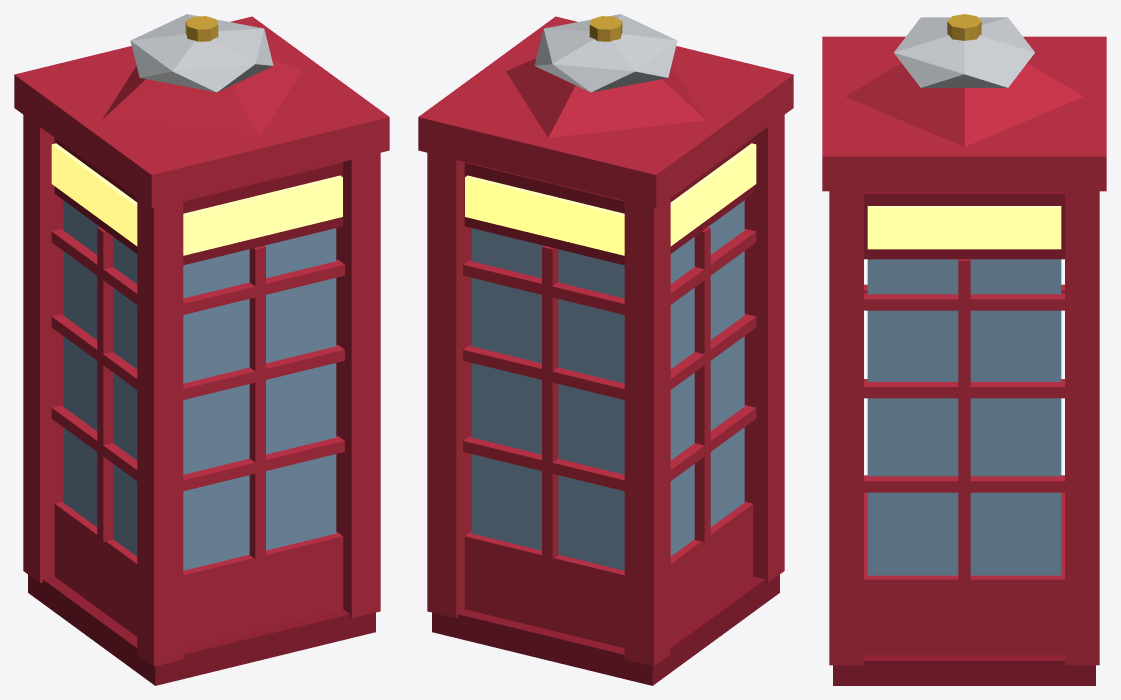
File: PhoneBooth.glb
The picture shows the model from 3 angles, left to right: view 1: azimuth 30°, elevation 25°; view 2: azimuth 150°, elevation 25°; view 3: azimuth 270°, elevation 25°; orthographic projection. The views are drawn at different scales.
Visible parts, largest first — view 1: PhoneBooth_Booth, PhoneBooth_Glow; view 2: PhoneBooth_Booth, PhoneBooth_Glow; view 3: PhoneBooth_Booth, PhoneBooth_Glow.
Part boxes in pixels (left/top/right/bottom): PhoneBooth_Booth: left=14, top=14, right=389, bottom=685; PhoneBooth_Glow: left=51, top=143, right=342, bottom=255; PhoneBooth_Booth: left=418, top=14, right=793, bottom=685; PhoneBooth_Glow: left=465, top=143, right=756, bottom=255; PhoneBooth_Booth: left=822, top=14, right=1106, bottom=685; PhoneBooth_Glow: left=867, top=206, right=1061, bottom=249.
Size of the model in its own units: 4.1 by 9.7 by 4.1.
